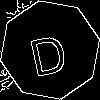D: (25, 25, 70, 78)
